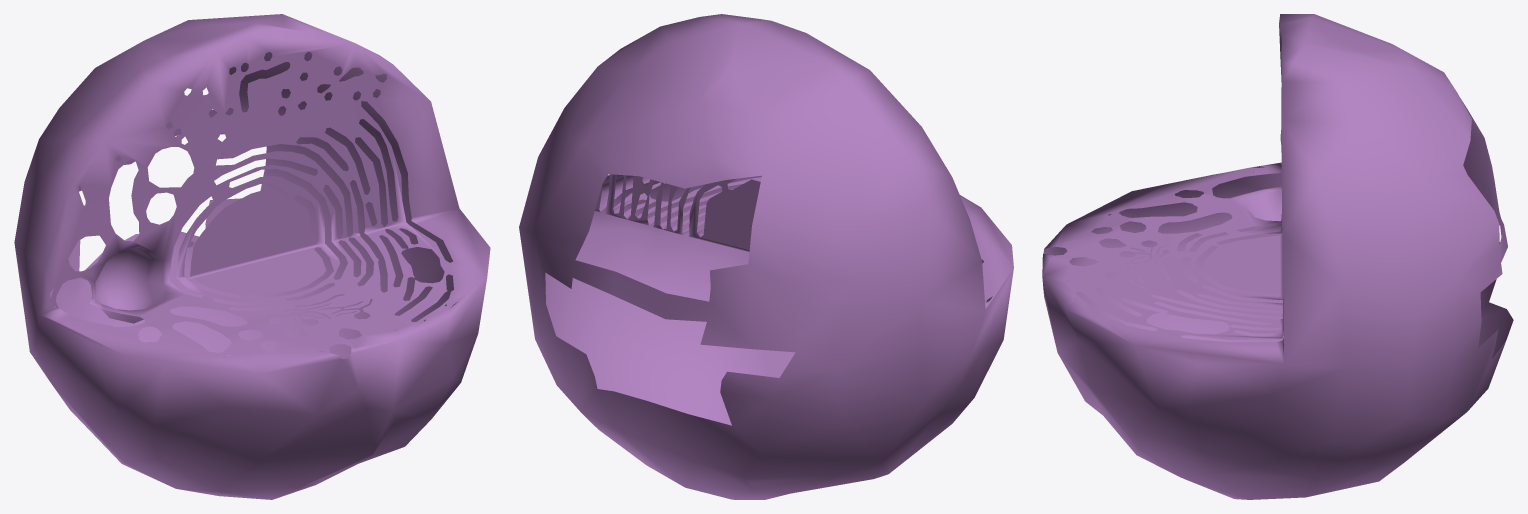
File: cytoplasm.glb
3 renders of one model, left to right at view 1: azimuth 30°, elevation 25°; view 2: azimuth 150°, elevation 25°; view 3: azimuth 270°, elevation 25°, orthographic. The views are drawn at different scales.
Parts seen in each view (by area): view 1: Cytoplasm.001; view 2: Cytoplasm.001; view 3: Cytoplasm.001.
Boxes of the visible parts, x1,y1,x2,y2 form: Cytoplasm.001: [14, 14, 490, 499]; Cytoplasm.001: [519, 14, 1013, 499]; Cytoplasm.001: [1042, 14, 1513, 499].
Bounding box in the file's own units: 19.21 × 19.19 × 18.61.
